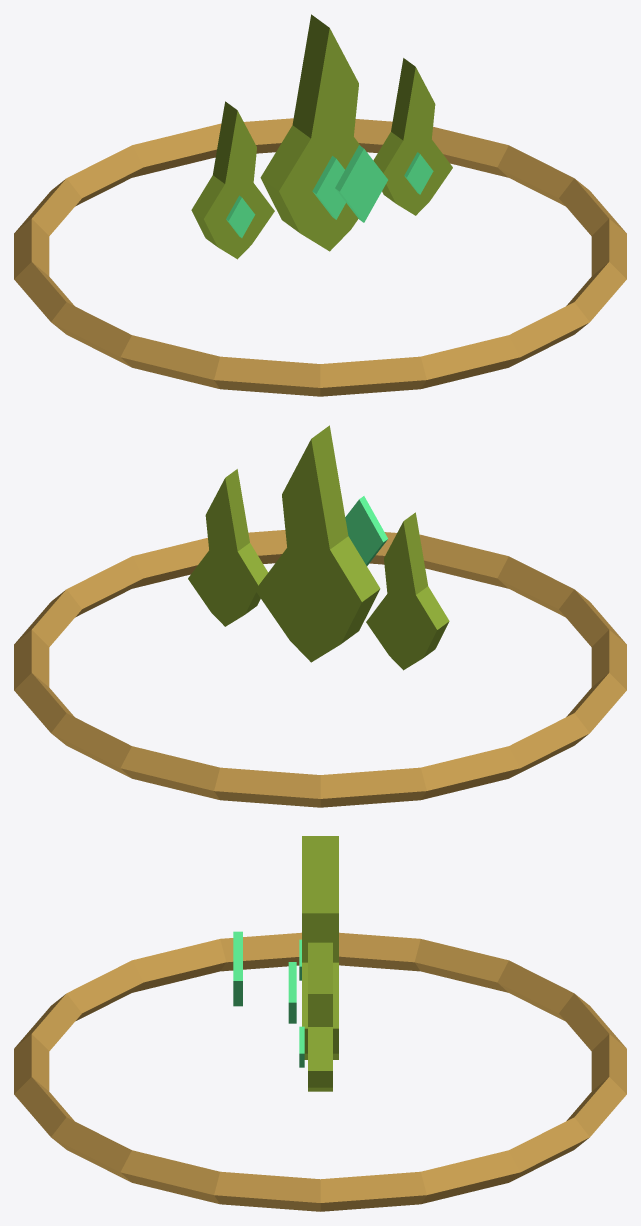
Rendered from open_flame.obj.
The picture shows the model from 3 angles, top to bottom: view 1: azimuth 30°, elevation 25°; view 2: azimuth 150°, elevation 25°; view 3: azimuth 270°, elevation 25°; orthographic projection.
Parts seen in each view (by area): view 1: open_lid_rim, open_flame_0, open_flame_0_edge, open_flame_-0.2, open_flame_0.2, open_flame_-0.2_edge, open_core, open_flame_0.2_edge, open_flame_0_core, open_flame_0.2_core, open_flame_-0.2_core; view 2: open_lid_rim, open_flame_0, open_flame_-0.2, open_flame_0.2, open_flame_0_edge, open_flame_-0.2_edge, open_flame_0.2_edge, open_core; view 3: open_lid_rim, open_flame_0_edge, open_flame_0.2_edge, open_core_edge, open_flame_0_core_edge.
Boxes of the visible parts, x1,y1,x2,y2 form: open_lid_rim: (14,118,626,396); open_flame_0: (279,28,360,251); open_flame_0_edge: (260,14,329,232); open_flame_-0.2: (204,110,274,259); open_flame_0.2: (383,67,452,215); open_flame_-0.2_edge: (191,101,237,246); open_core: (340,149,387,222); open_flame_0.2_edge: (373,58,415,203); open_flame_0_core: (316,159,345,219); open_flame_0.2_core: (407,154,433,194); open_flame_-0.2_core: (229,198,255,237); open_lid_rim: (14,530,626,807); open_flame_0: (255,439,361,662); open_flame_-0.2: (366,521,436,670); open_flame_0.2: (188,478,258,626); open_flame_0_edge: (311,425,380,643); open_flame_-0.2_edge: (403,512,449,657); open_flame_0.2_edge: (225,469,268,614); open_core: (345,499,383,564); open_lid_rim: (14,932,626,1211); open_flame_0_edge: (302,836,338,1059); open_flame_0.2_edge: (308,942,332,1091); open_core_edge: (233,931,242,1006); open_flame_0_core_edge: (288,962,296,1023).
Bounding box in the file's own units: 1.21 × 0.54 × 1.19.
